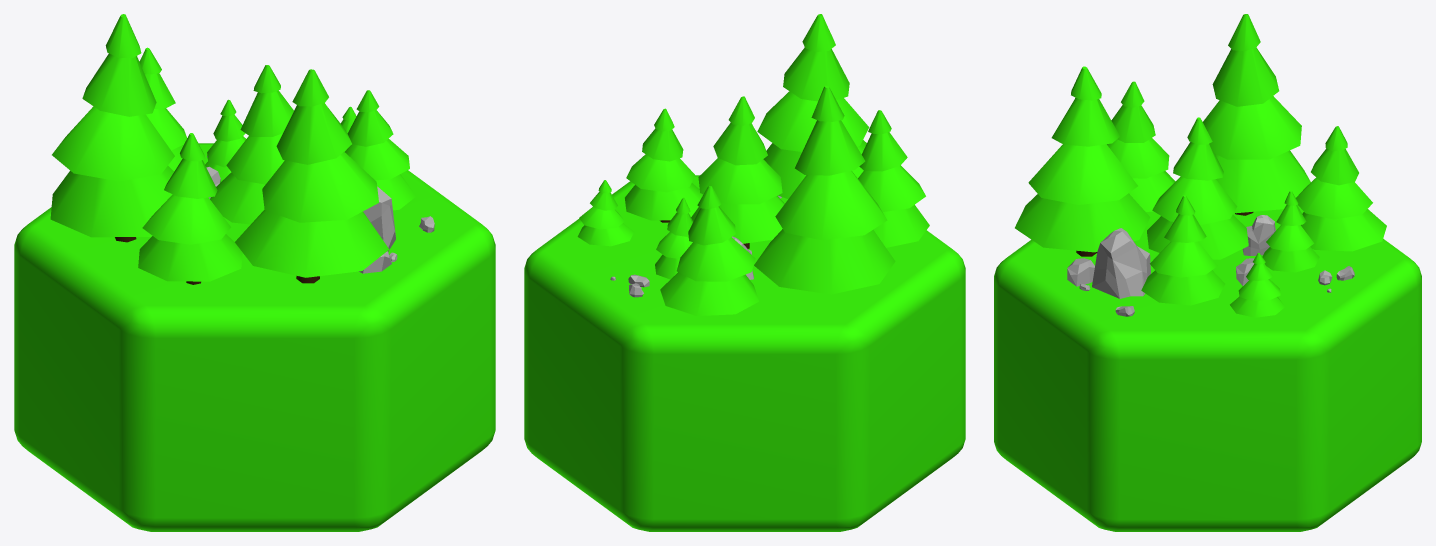
File: Cell_Forest_02.fbx
3 views of the same model, side by side, from view 1: azimuth 30°, elevation 25°; view 2: azimuth 150°, elevation 25°; view 3: azimuth 270°, elevation 25° (orthographic). The views are drawn at different scales.
Visible parts, largest first — view 1: Cell_Forest_02; view 2: Cell_Forest_02; view 3: Cell_Forest_02.
Part boxes in pixels (x1,y1,x2,y2): Cell_Forest_02: [14, 14, 495, 531]; Cell_Forest_02: [524, 14, 965, 531]; Cell_Forest_02: [994, 14, 1421, 531].
Bounding box in the file's own units: 173 × 199 × 194.
